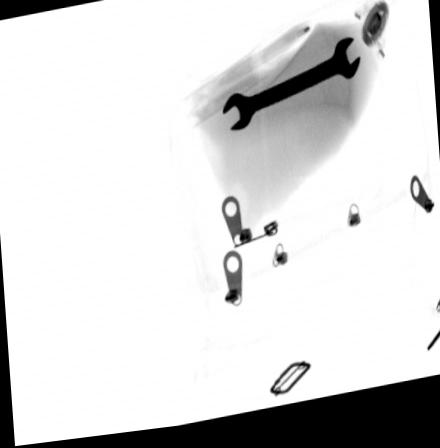Wrench: (219, 43, 362, 138)
